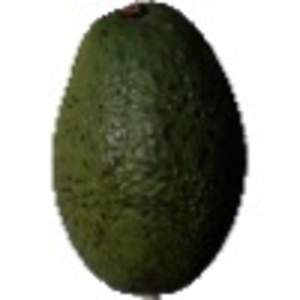abacate: (47, 1, 247, 295)
